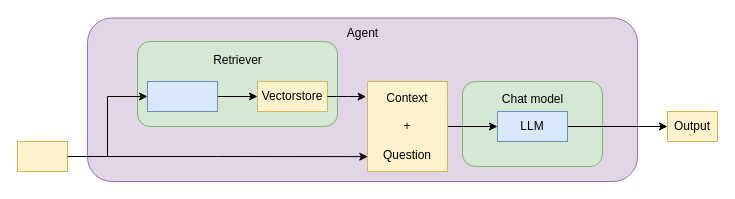
This 735x199 diagram has some shape labels left out. Here are the shapes that lost their labels. From the top down, the box of each, then its label:
(146, 80, 218, 112): Embedding model
(16, 140, 68, 172): Input
